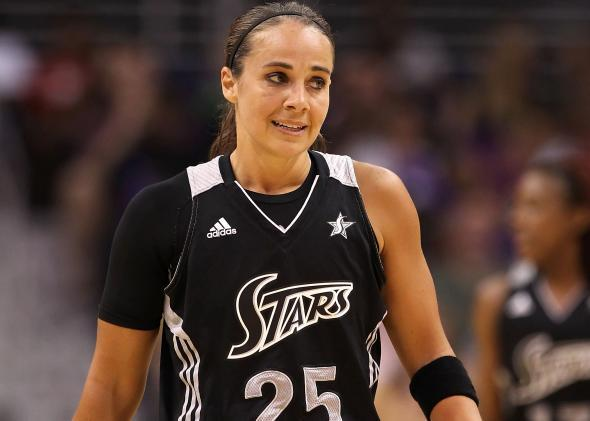face: (217, 8, 349, 151)
player: (67, 1, 528, 421)
